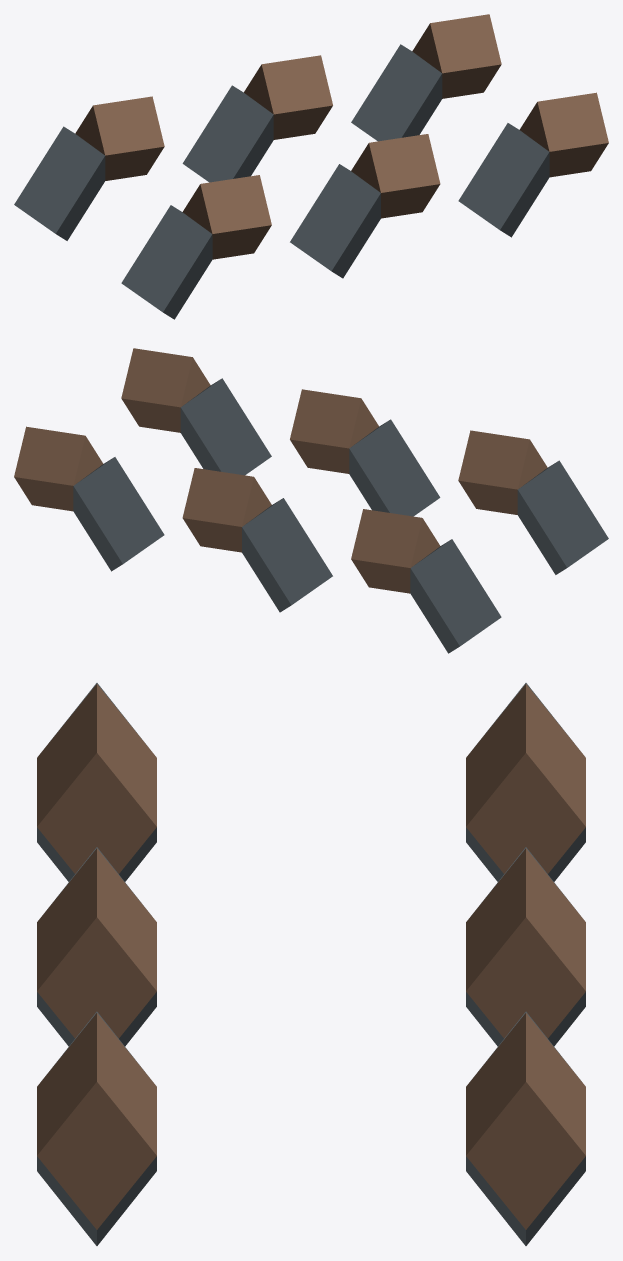
The model's file is brake_shoe_pile.glb.
3 views of the same model, one above another, from view 1: azimuth 30°, elevation 25°; view 2: azimuth 150°, elevation 25°; view 3: azimuth 270°, elevation 25° (orthographic). The views are drawn at different scales.
Parts seen in each view (by area): view 1: brake_shoe_pile; view 2: brake_shoe_pile; view 3: brake_shoe_pile.
Part boxes in pixels (box(x1,y1,x2,y2)): brake_shoe_pile: box(14, 14, 608, 319); brake_shoe_pile: box(14, 348, 608, 653); brake_shoe_pile: box(37, 683, 585, 1245).
Size of the model in its own units: 1.92 by 0.5 by 0.96.
